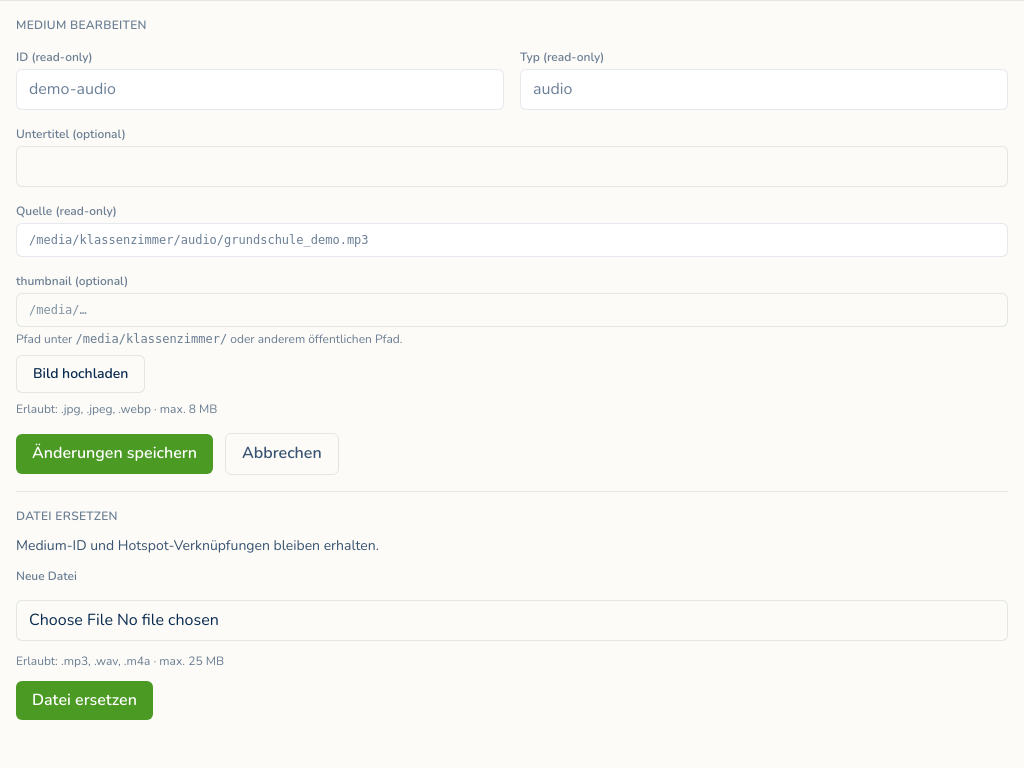
StationMediumEditForm — Thumbnail/Poster-Upload › bei isDirty: Upload-Button deaktiviert
Type "Neuer Untertitel" into the field labelled "Untertitel (optional)". click: point(512, 167)
box: [16,146,1008,187]
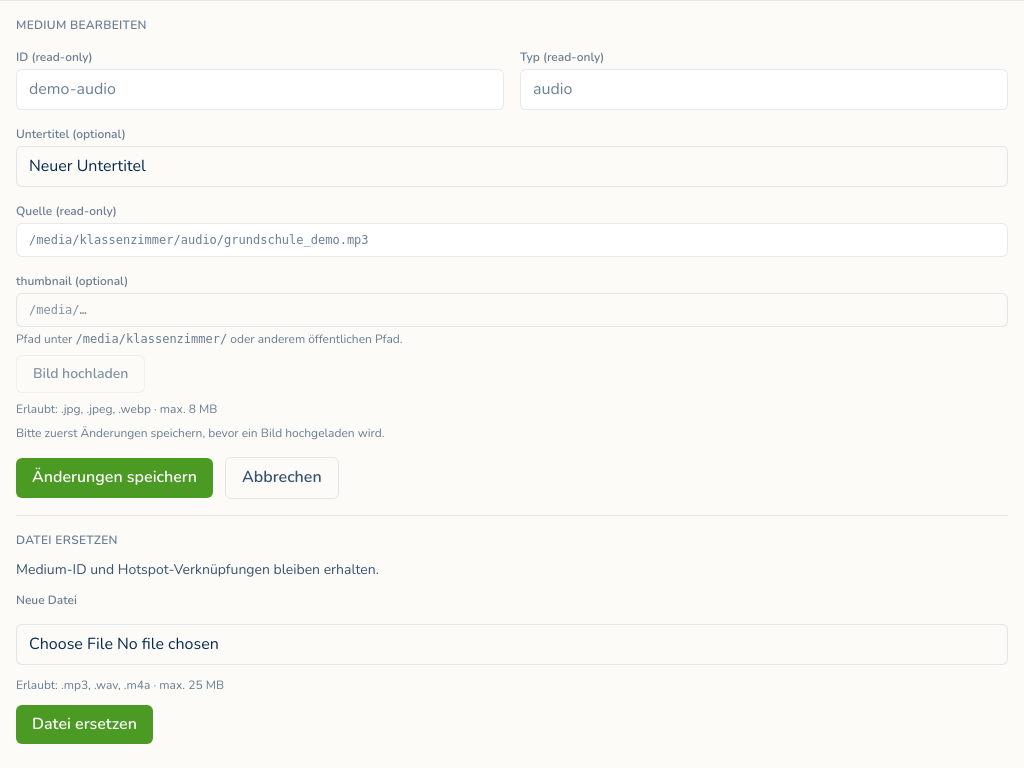
Expected: the button "Bild hochladen" is disabled, [16,355,145,393]
Expected: the text "Bitte zuerst Änderungen speichern, bevor ein Bild hochgeladen wird." is shown, [16,425,385,441]
